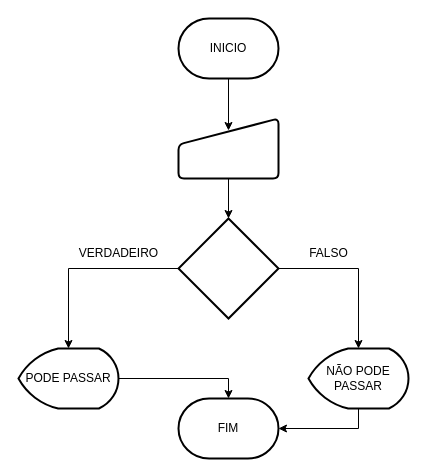
Some shapes in this 426 by 476 pixel diagram are drawn without their labels. The box of each missing label's shape, as (x1, y1, x2, y2) in pixels:
IDADE: (177, 117, 279, 179)
IDADE>=18: (177, 217, 279, 319)
